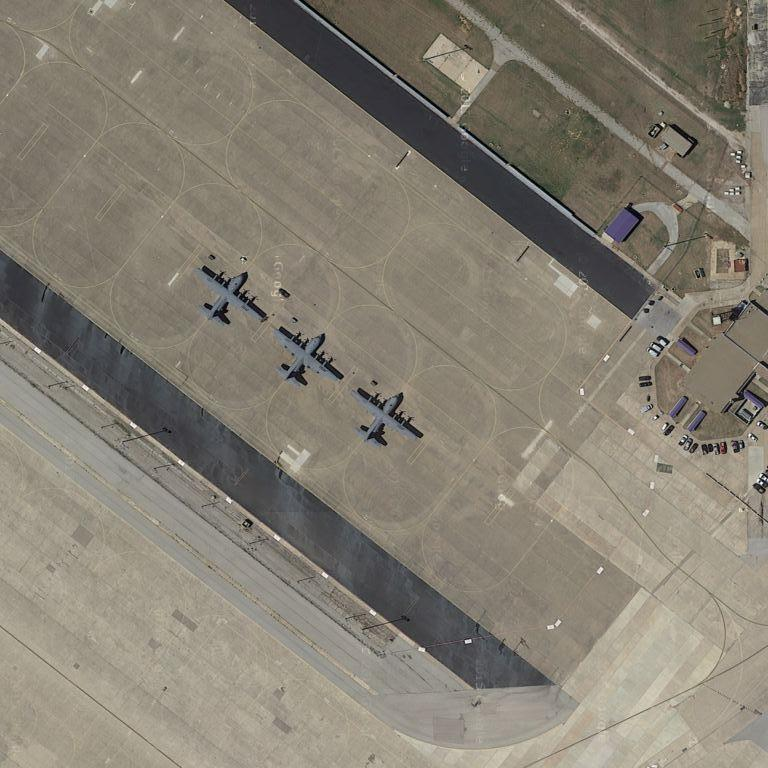C-130: (352, 379, 429, 452), (194, 260, 271, 331), (274, 319, 346, 392)
